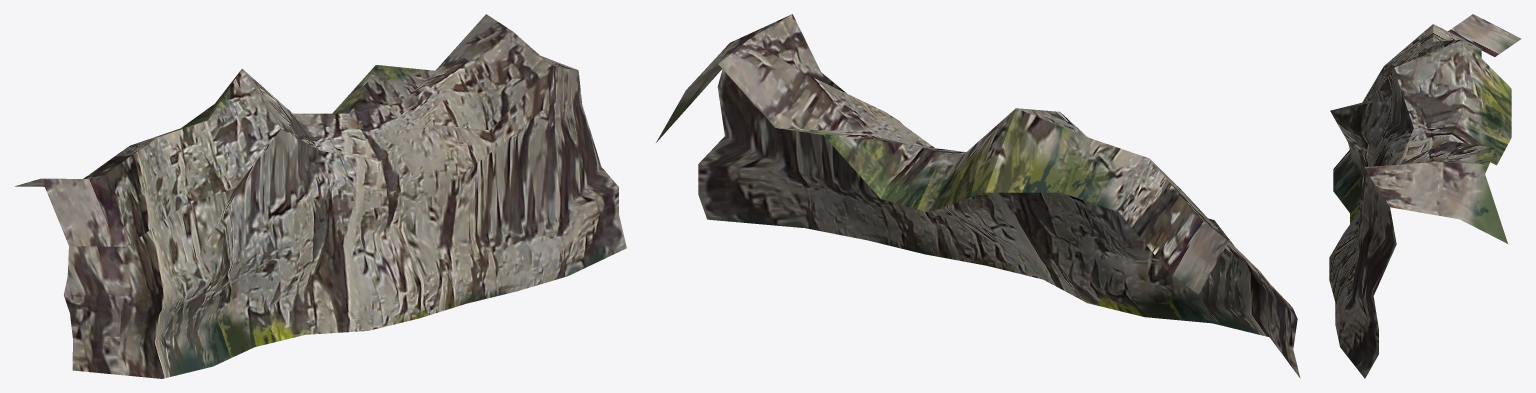
Rendered from mountain_wall.fbx.
3 views of the same model, side by side, from view 1: azimuth 30°, elevation 25°; view 2: azimuth 150°, elevation 25°; view 3: azimuth 270°, elevation 25° (orthographic). The views are drawn at different scales.
Parts seen in each view (by area): view 1: pPlane1; view 2: pPlane1; view 3: pPlane1.
Part boxes in pixels (x1,y1,x2,y2): pPlane1: (15,14,626,378); pPlane1: (656,14,1300,378); pPlane1: (1329,14,1521,378).
Size of the model in its own units: 1150 by 446 by 397.
1 material, 1 textured.
